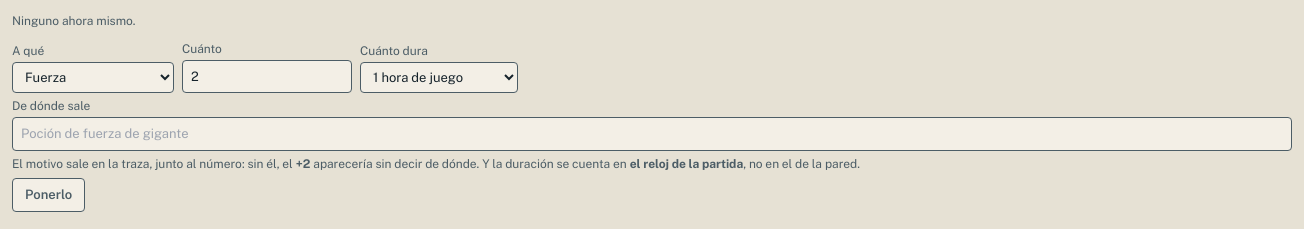
Test: los modificadores temporales › **sin motivo no deja ponerlo**: es lo único que la traza puede enseñar
Type "Bendición del druida" into the field with placeholder "Poción de fuerza de gigante". click: (652,134)
box: [12, 117, 1292, 150]
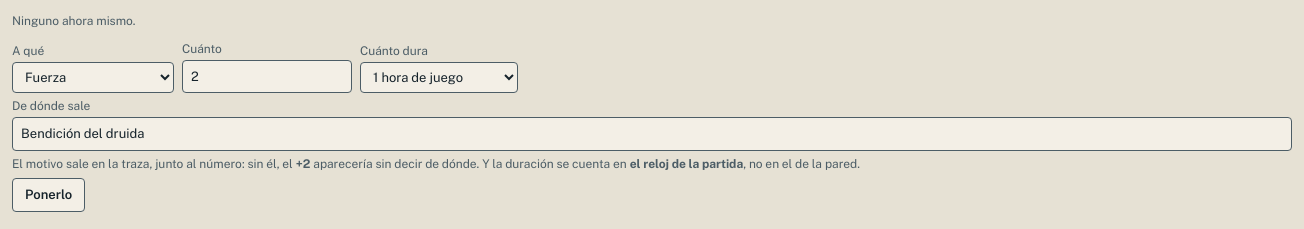
Check: the button "Ponerlo" is enabled, box [12, 178, 85, 212]
